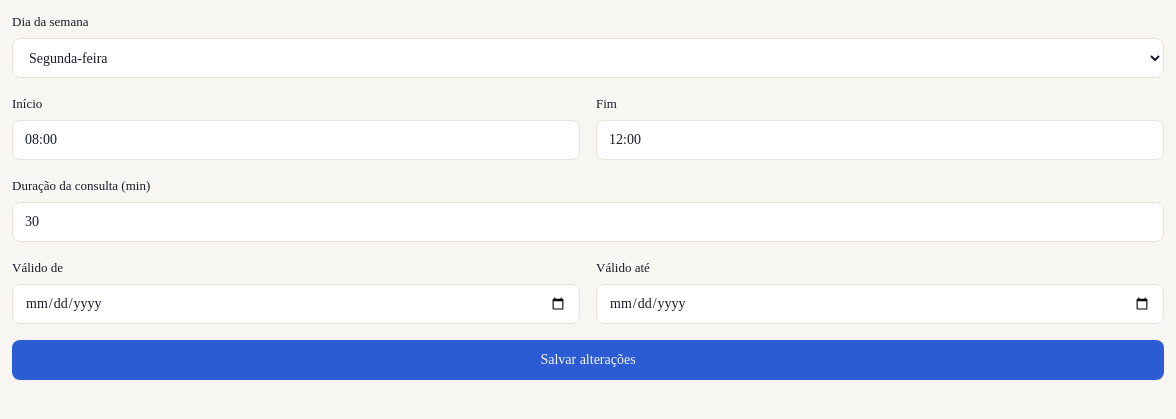
Test: ScheduleForm — edit mode › shows validation error when startTime is cleared in edit mode
The image size is (1176, 419).
Clear the field with test id "schedule-form-start-time" at (296, 140), box [12, 120, 580, 160]
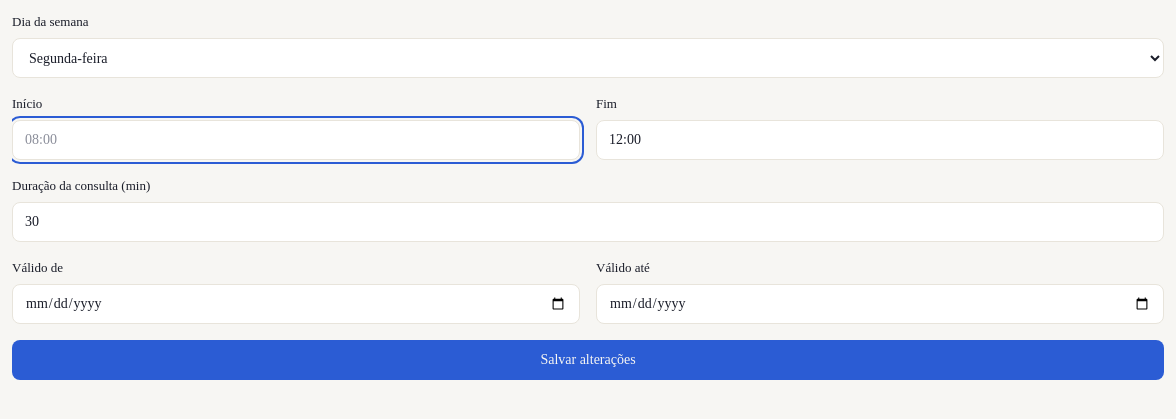
Click the button with test id "schedule-form-submit" at (588, 360), box [12, 340, 1164, 380]
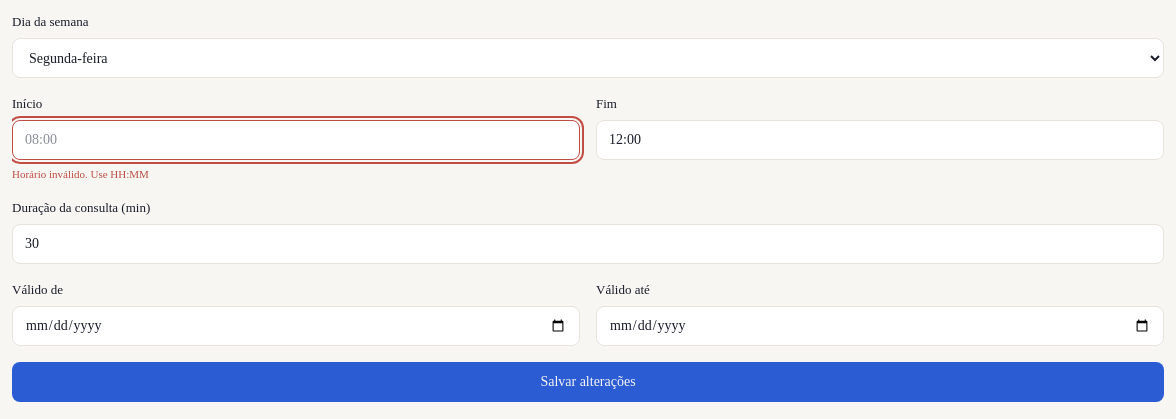
Check: the text "Horário inválido. Use HH:MM" is shown, box [12, 168, 149, 180]
